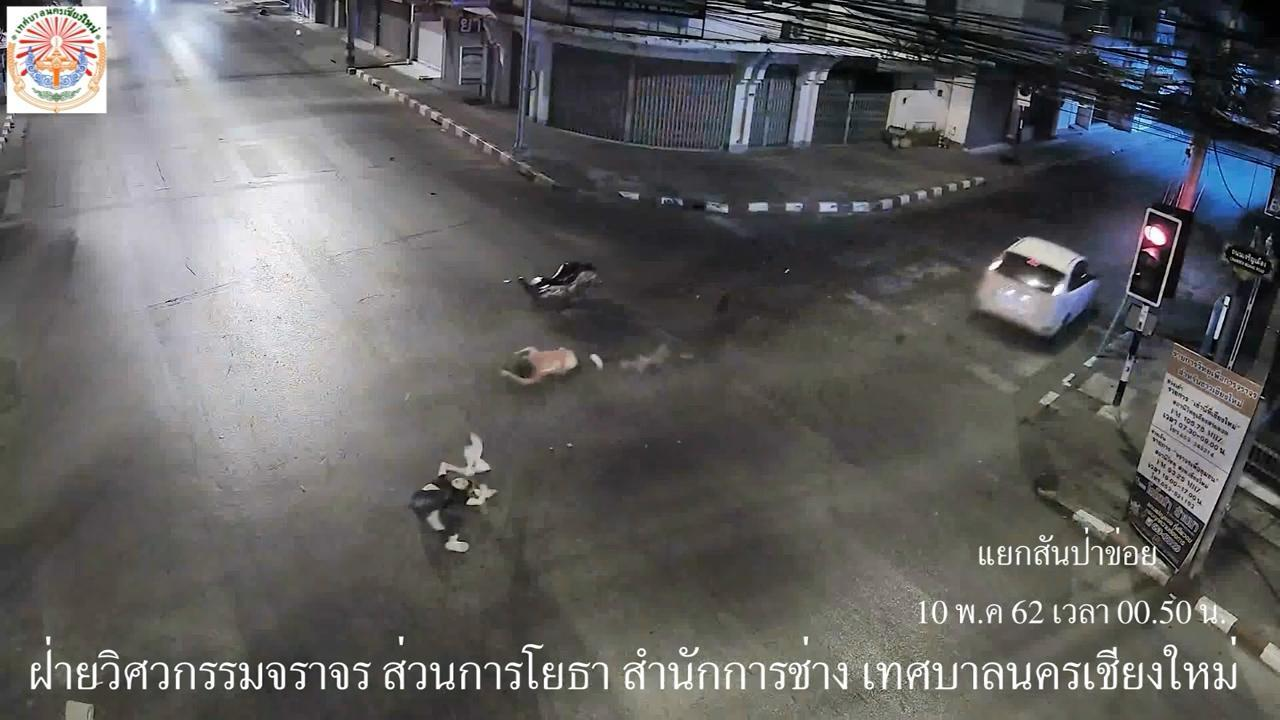accident: (412, 439, 496, 560), (499, 340, 610, 394)
